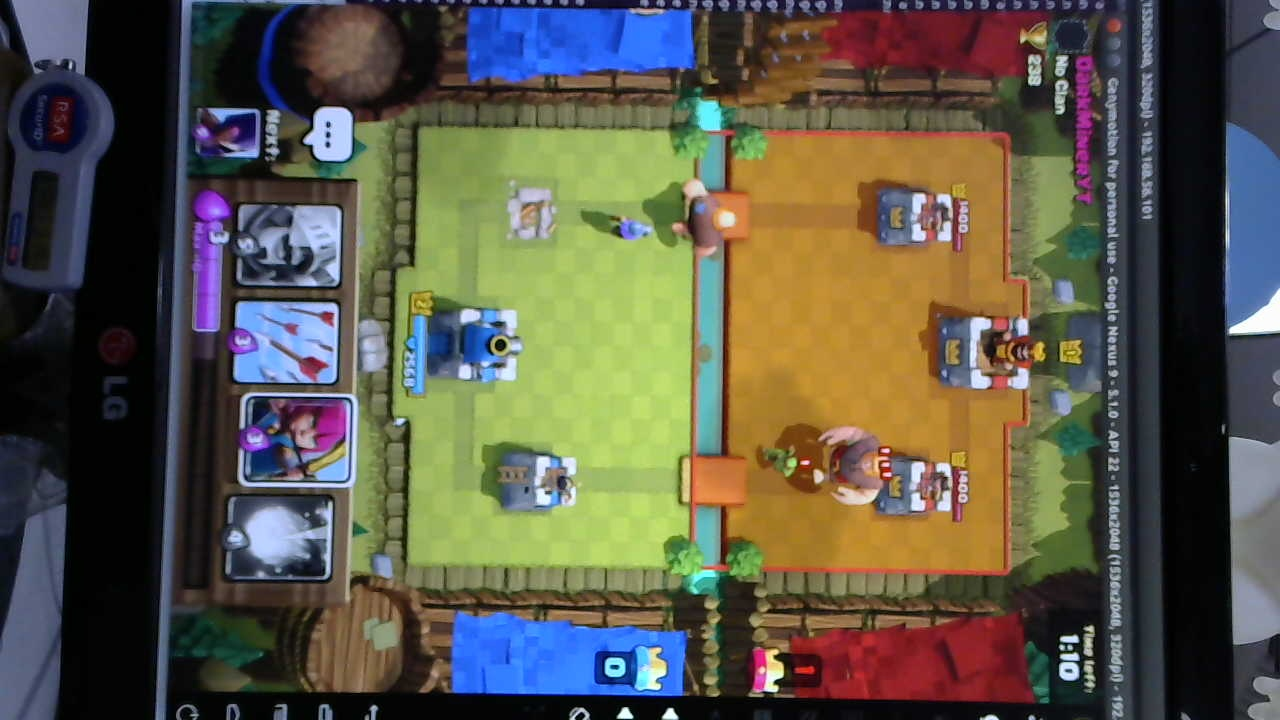arena: (504, 446, 582, 513)
darena: (507, 186, 554, 245)
earena: (873, 456, 953, 521), (873, 193, 956, 254)
eking: (935, 311, 1043, 391)
giant: (819, 419, 892, 507), (679, 178, 738, 256)
king: (428, 302, 525, 384)
musketeer: (600, 208, 653, 243)
